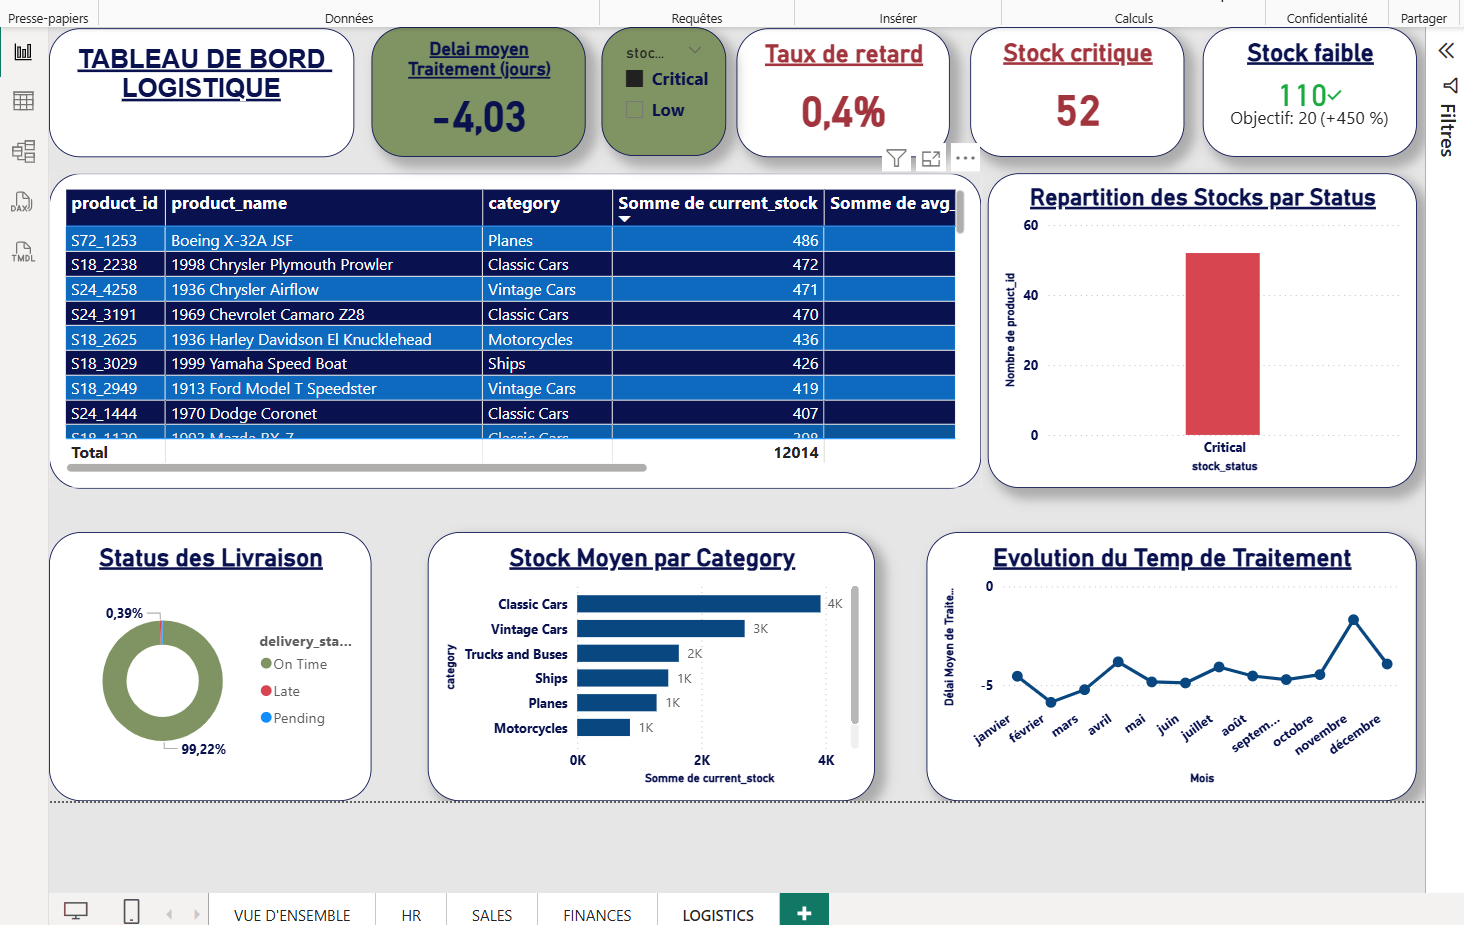

The dashboard page shown, as its layout file describes it:
{"tool":"powerbi","page":{"name":"LOGISTICS","canvas":[1280,720],"ordinal":4},"visuals":[{"type":"card","title":"Taux de retard","fields":{"Values":["_MEASURES.Late Delivery Rate %"]},"box":[640,1.4,198.6,120],"z":0},{"type":"card","title":"Stock critique","fields":{"Values":["_MEASURES.Critical Stock Products"]},"box":[857,0,198.8,120.9],"z":1000},{"type":"kpi","title":"Stock faible","fields":{"Indicator":["_MEASURES.Stock Faible des Produits"],"TrendLine":["toys_and_models dim_dates.month"],"Goal":["_MEASURES.Seuil Stock Faible"]},"box":[1073.3,0,198.8,120.9],"z":2000},{"type":"tableEx","fields":{"Values":["toys_and_models dim_products.product_id","toys_and_models dim_products.product_name","toys_and_models dim_products.category","Sum(toys_and_models fact_inventory.current_stock)","Sum(toys_and_models fact_inventory.avg_monthly_sales)","toys_and_models fact_inventory.months_of_stock_remaining","toys_and_models fact_inventory.stock_status"]},"box":[0,135.8,867.2,293.7],"z":3000},{"type":"slicer","fields":{"Values":["toys_and_models fact_inventory.stock_status"]},"box":[514.3,0,115.7,120],"z":4000},{"type":"clusteredColumnChart","title":"Repartition des Stocks par Status","fields":{"Category":["toys_and_models fact_inventory.stock_status"],"Y":["CountNonNull(toys_and_models fact_inventory.product_id)"]},"box":[873.3,136,398.8,293],"z":5000},{"type":"clusteredBarChart","title":"Stock Moyen par Category","fields":{"Category":["toys_and_models dim_products.category"],"Y":["Sum(toys_and_models fact_inventory.current_stock)"]},"box":[352.3,469.8,416.3,250],"z":6000},{"type":"lineChart","title":"Evolution du Temp de Traitement","fields":{"Category":["toys_and_models dim_dates.order_date.Variation.Hiérarchie de dates.Mois"],"Y":["_MEASURES.Avg Processing Time"]},"box":[816.3,469.8,455.8,250],"z":7000},{"type":"donutChart","title":"Status des Livraison","fields":{"Category":["toys_and_models fact_sales.delivery_status"],"Y":["_MEASURES.Total Orders"]},"box":[0,469.8,300,250],"z":8000},{"type":"textbox","box":[0,1.2,283.7,119.8],"z":9000},{"type":"card","title":"Delai moyen Traitement (jours)","fields":{"Values":["_MEASURES.Avg Processing Time"]},"box":[300,0,198.8,120.9],"z":10000}]}

Visuals, with their boxes on the page's 1280x720 design canvas (x1, y1, x2, y2). These are canvas units, not pixel positions in the 1464x925 screenshot, which may show the page scaled, cropped or inside an application window:
"Taux de retard" card: bbox(640, 1, 839, 121)
"Stock critique" card: bbox(857, 0, 1056, 121)
"Stock faible" kpi: bbox(1073, 0, 1272, 121)
tableEx - toys_and_models dim_products.product_id x toys_and_models dim_products.product_name: bbox(0, 136, 867, 430)
slicer - toys_and_models fact_inventory.stock_status: bbox(514, 0, 630, 120)
"Repartition des Stocks par Status" clusteredColumnChart: bbox(873, 136, 1272, 429)
"Stock Moyen par Category" clusteredBarChart: bbox(352, 470, 769, 720)
"Evolution du Temp de Traitement" lineChart: bbox(816, 470, 1272, 720)
"Status des Livraison" donutChart: bbox(0, 470, 300, 720)
textbox: bbox(0, 1, 284, 121)
"Delai moyen Traitement (jours)" card: bbox(300, 0, 499, 121)
